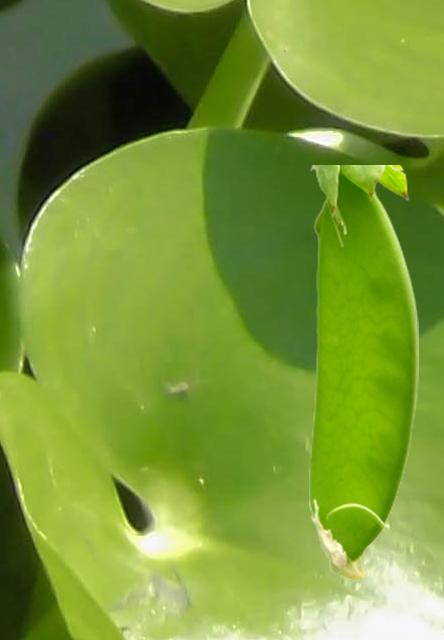pea: (309, 165, 417, 579)
